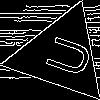U: (35, 30, 94, 80)
